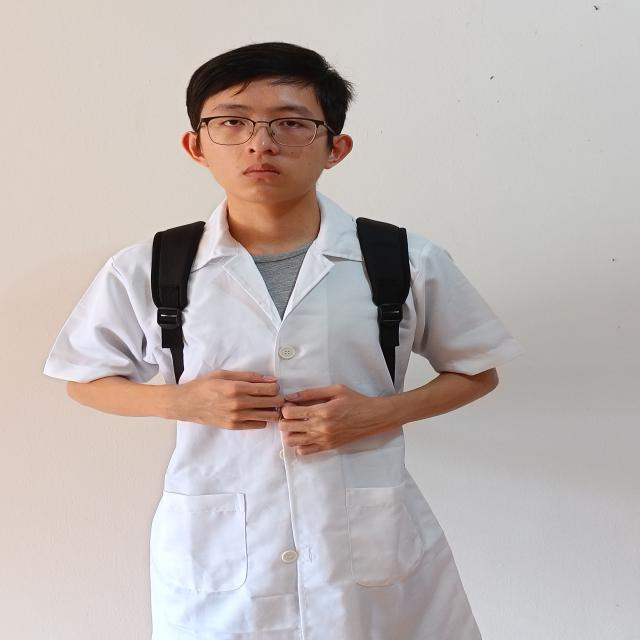person_with_labcoat: (45, 42, 521, 640)
